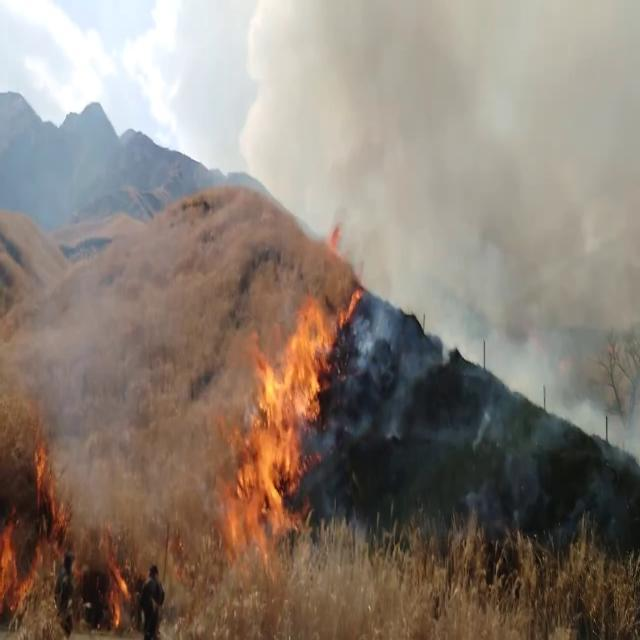Fire: (217, 285, 346, 565), (92, 516, 138, 632), (0, 508, 36, 634)
Smoke: (268, 1, 640, 463), (0, 216, 161, 507)
